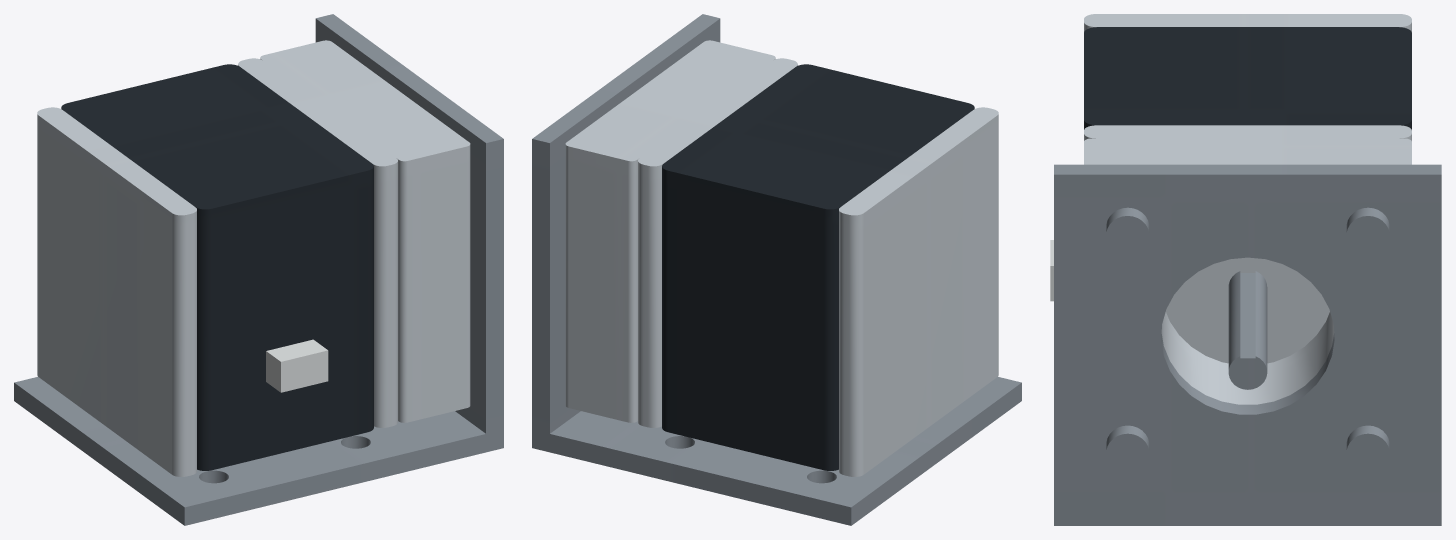
The model's file is nema17-stepper-motor-with-mount.glb.
3 renders of one model, left to right at view 1: azimuth 30°, elevation 25°; view 2: azimuth 150°, elevation 25°; view 3: azimuth 270°, elevation 25°, orthographic. The views are drawn at different scales.
Parts seen in each view (by area): view 1: Motor_laminations, Motor_endcap_-38, L_mount, Mount_spacer, Motor_endcap_-4, Motor_plug; view 2: Motor_laminations, Motor_endcap_-38, L_mount, Mount_spacer, Motor_endcap_-4; view 3: L_mount, Motor_laminations, Mount_spacer, Motor_endcap_-4, D_shaft, Motor_endcap_-38, Bolt_head_15.5_11.5, Bolt_head_-15.5_11.5, Bolt_head_15.5_42.5, Bolt_head_-15.5_42.5.
Boxes of the visible parts, x1,y1,x2,y2 form: Motor_laminations: [61, 64, 373, 470]; Motor_endcap_-38: [37, 107, 196, 476]; L_mount: [14, 14, 503, 525]; Mount_spacer: [260, 40, 470, 422]; Motor_endcap_-4: [238, 58, 397, 427]; Motor_plug: [266, 339, 328, 392]; Motor_laminations: [662, 64, 974, 470]; Motor_endcap_-38: [839, 107, 998, 476]; L_mount: [532, 14, 1021, 525]; Mount_spacer: [565, 40, 775, 422]; Motor_endcap_-4: [638, 58, 797, 427]; L_mount: [1054, 164, 1441, 525]; Motor_laminations: [1084, 27, 1411, 129]; Mount_spacer: [1084, 138, 1411, 404]; Motor_endcap_-4: [1084, 125, 1411, 363]; D_shaft: [1228, 271, 1267, 389]; Motor_endcap_-38: [1084, 14, 1411, 32]; Bolt_head_15.5_11.5: [1346, 425, 1389, 472]; Bolt_head_-15.5_11.5: [1106, 425, 1149, 472]; Bolt_head_15.5_42.5: [1346, 207, 1389, 255]; Bolt_head_-15.5_42.5: [1106, 207, 1149, 255].
Bounding box in the file's own units: 0.065 × 0.05 × 0.0505.
Materials: 4 (4 with a texture image).
